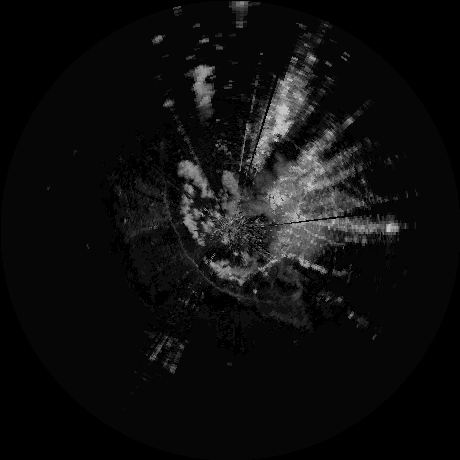frontgust: (162, 194, 246, 301)
